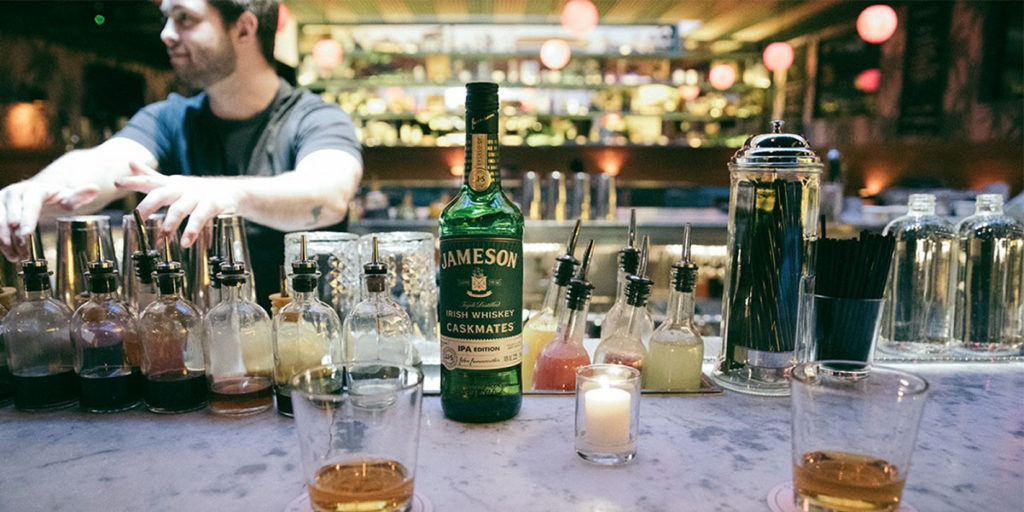Jameson: (431, 80, 530, 427)
